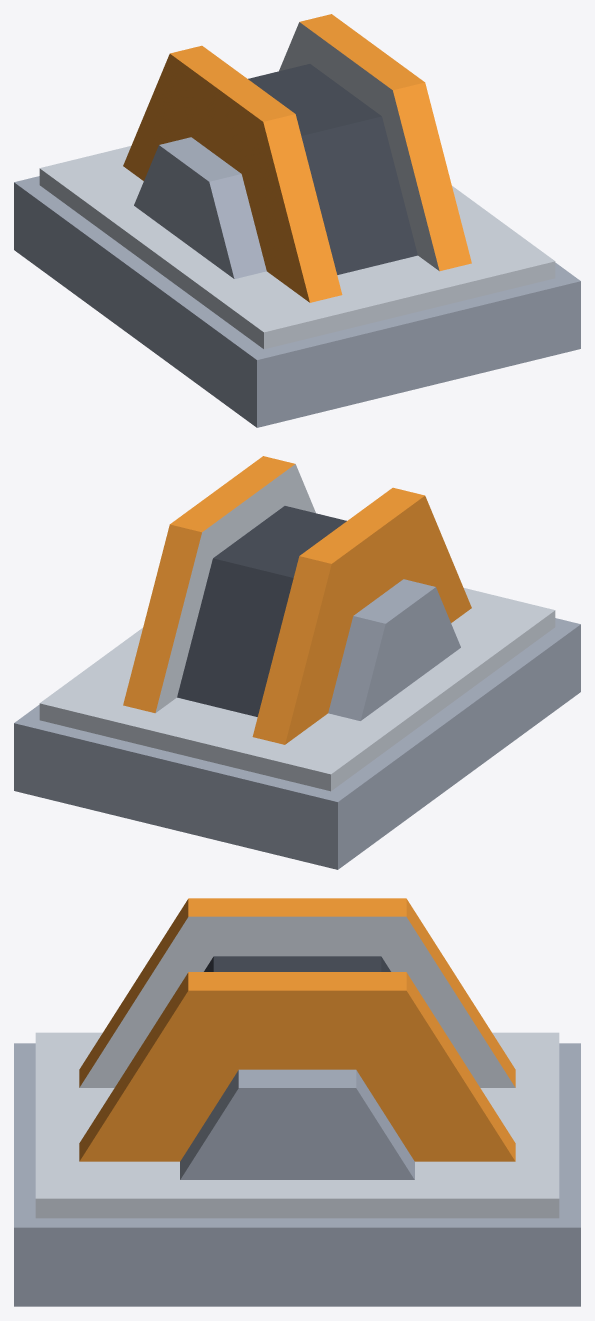
File: machine_generatorLarge.glb
The picture shows the model from 3 angles, top to bottom: view 1: azimuth 30°, elevation 25°; view 2: azimuth 150°, elevation 25°; view 3: azimuth 270°, elevation 25°; orthographic projection. The views are drawn at different scales.
Parts seen in each view (by area): view 1: machine_generatorLarge; view 2: machine_generatorLarge; view 3: machine_generatorLarge.
Part boxes in pixels (x1,y1,x2,y2): machine_generatorLarge: [14, 14, 580, 427]; machine_generatorLarge: [14, 456, 580, 869]; machine_generatorLarge: [14, 898, 580, 1306].
Bounding box in the file's own units: 1 × 0.683 × 1.3.
